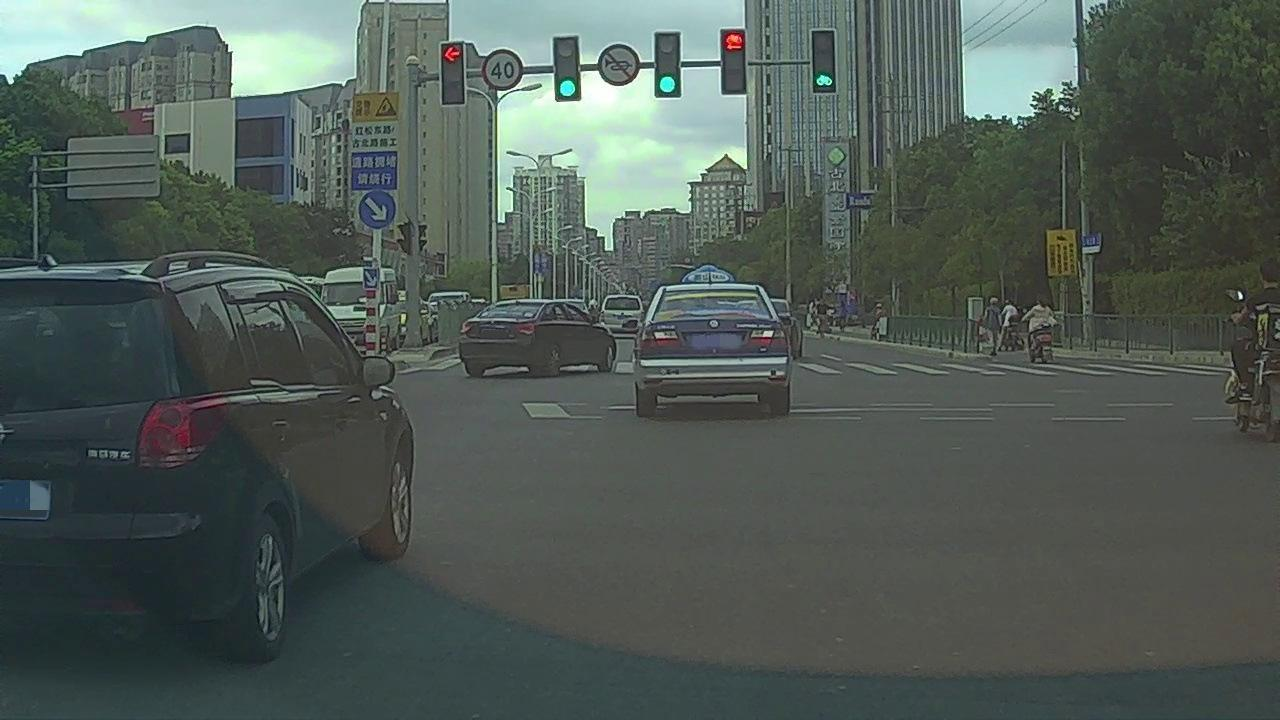traffic_light: (721, 31, 747, 96), (555, 38, 581, 100), (657, 31, 681, 97), (812, 28, 835, 92), (441, 45, 466, 103)
